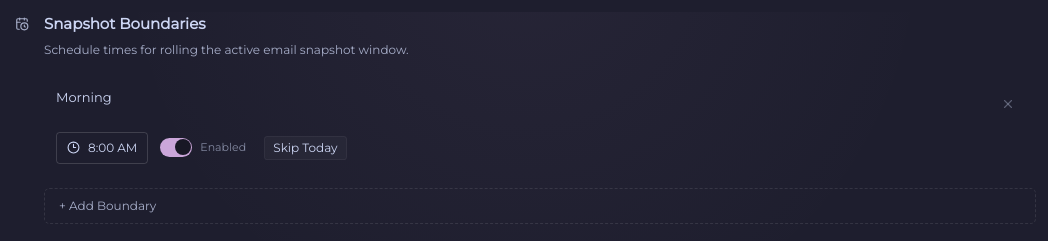
Test: BriefingSchedulesCard › applies skip results returned by the API
Click the button with aria-label "skip boundary today" at (305, 148), box [264,136,347,160]
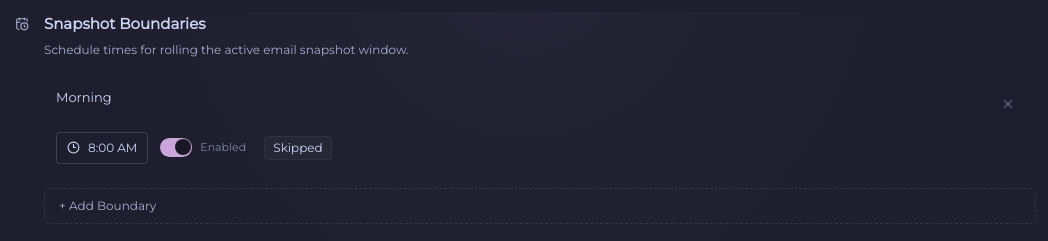
Expected: the button with aria-label "boundary skipped today" is shown, [264,136,332,160]
